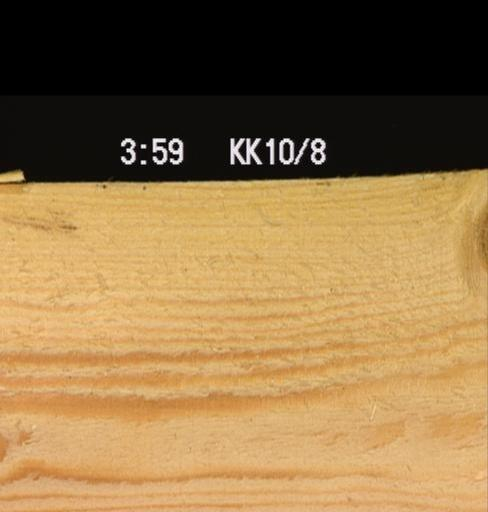sound_knot: (455, 180, 486, 289)
wave: (0, 180, 35, 198)
